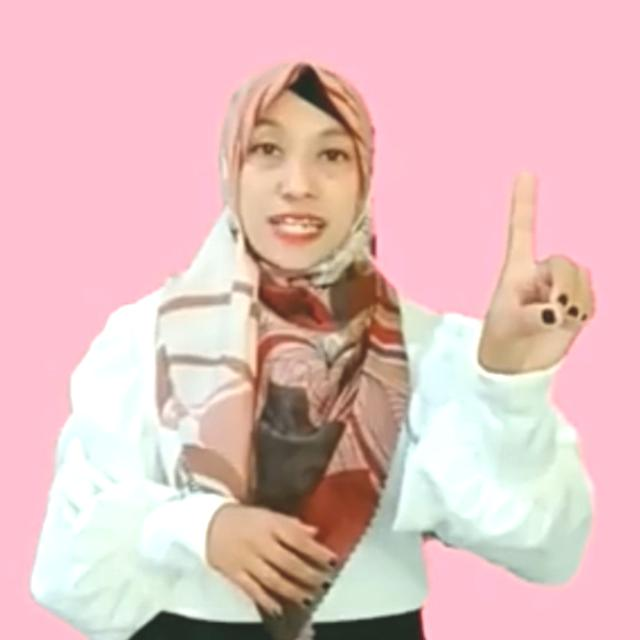D: (472, 165, 602, 372)
